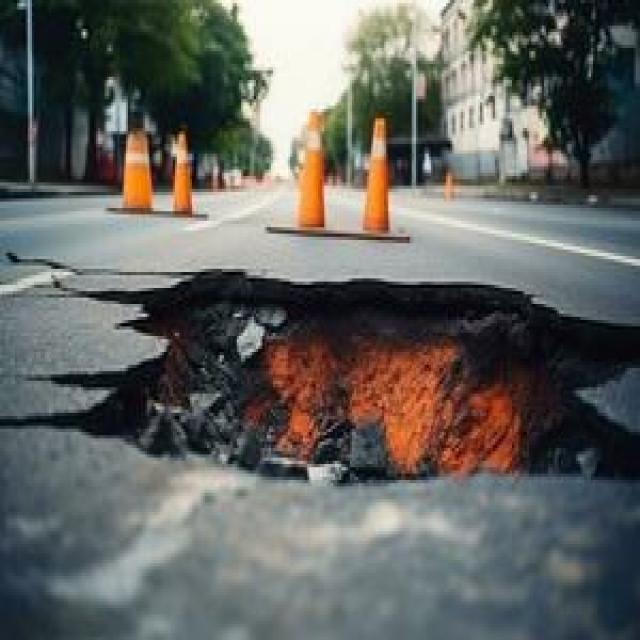road collapse: (65, 200, 639, 640)
